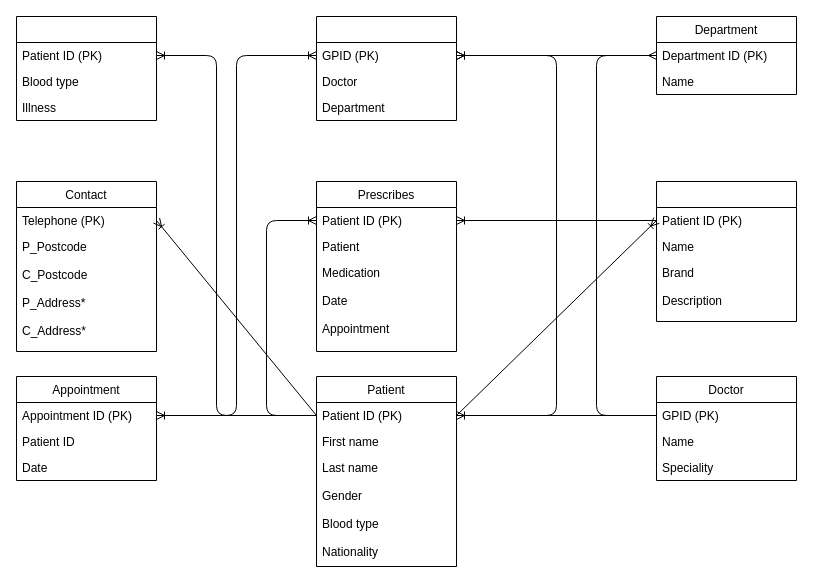
Some shapes in this 813 by 583 pixel diagram are drawn without their labels. The shapes that lost their labels are listed below. From the top down, each one's box as (x1, y1, x2, y2) in pixels, then its label:
(16, 16, 156, 120): Clinc_info
(316, 16, 456, 120): Affliated_With
(656, 180, 796, 322): Medication
